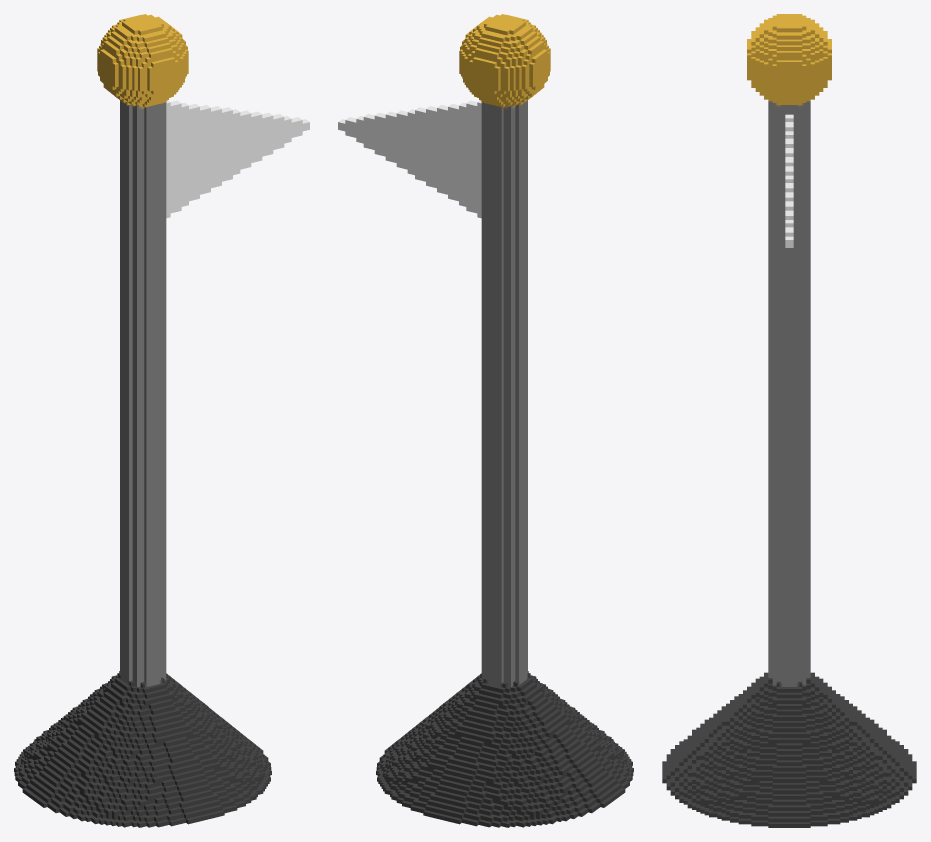
3 views of the same model, side by side, from view 1: azimuth 30°, elevation 25°; view 2: azimuth 150°, elevation 25°; view 3: azimuth 270°, elevation 25° (orthographic).
Parts seen in each view (by area): view 1: GoalFlag; view 2: GoalFlag; view 3: GoalFlag.
Part boxes in pixels (left/top/right/bottom): GoalFlag: left=14, top=14, right=309, bottom=827; GoalFlag: left=338, top=14, right=633, bottom=827; GoalFlag: left=662, top=14, right=916, bottom=827.
Bounding box in the file's own units: 75 × 196 × 60.
Materials: 1 (1 with a texture image).
